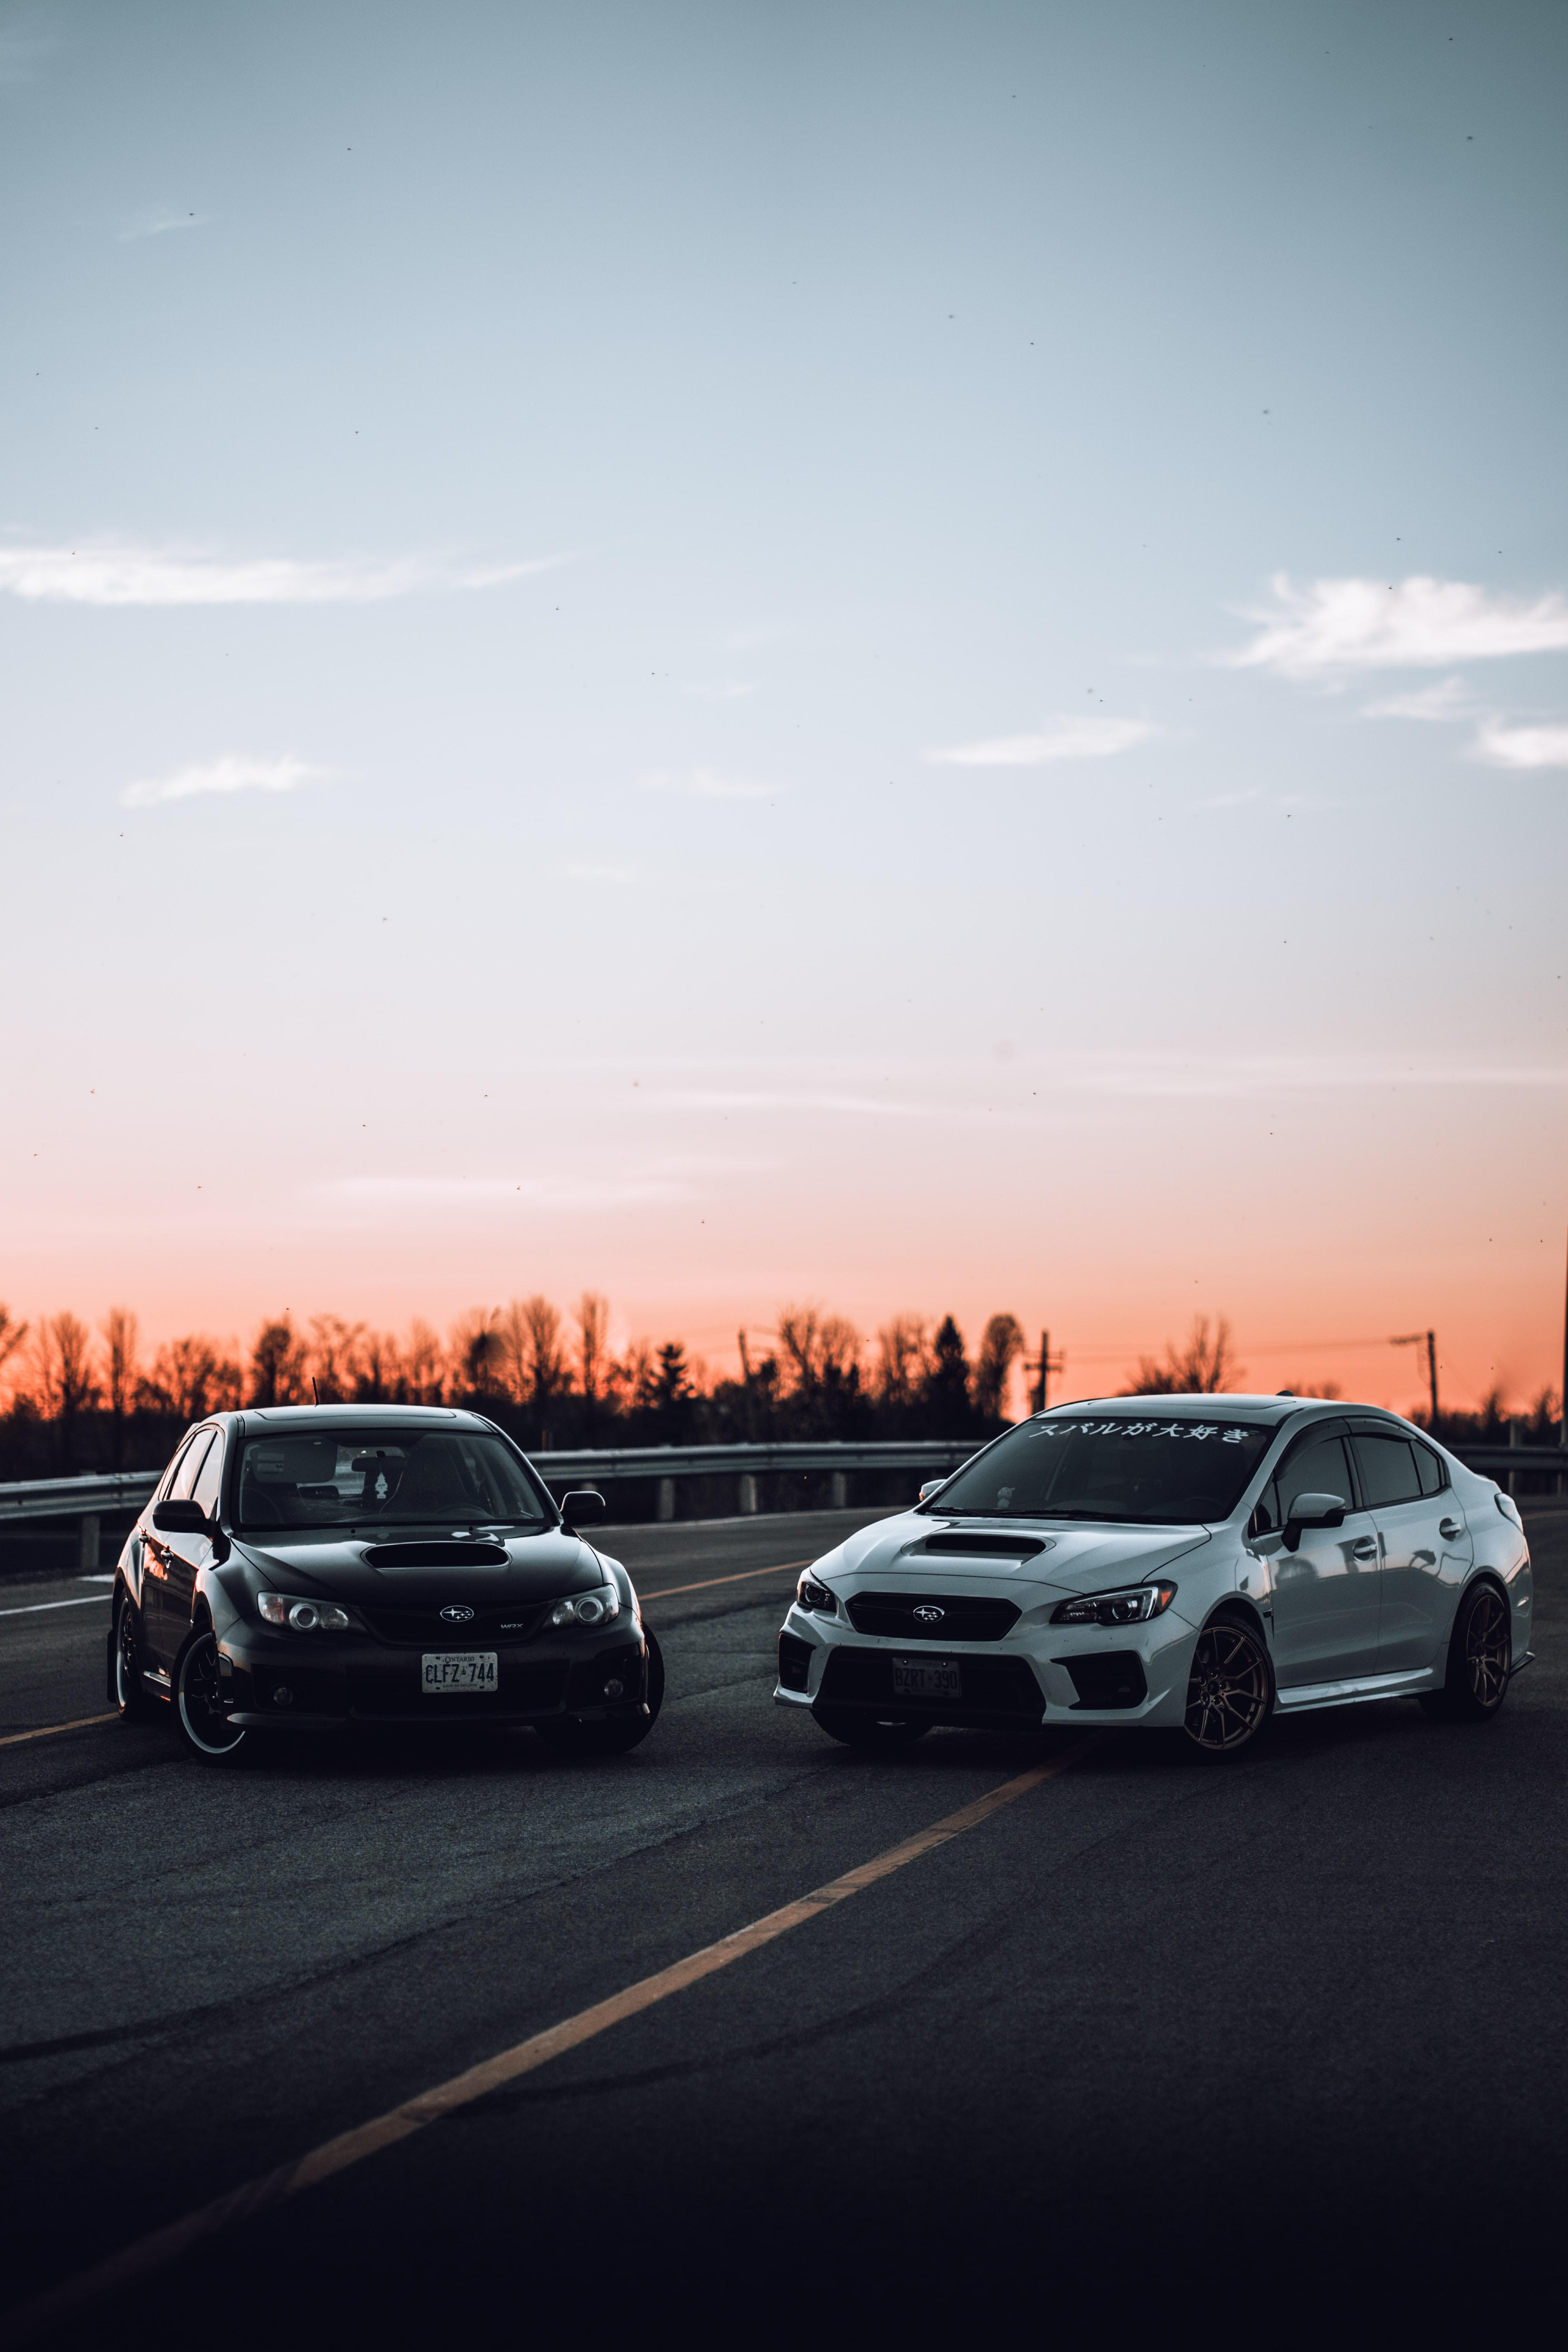subaru: (416, 1589, 492, 1643), (898, 1591, 963, 1638)
